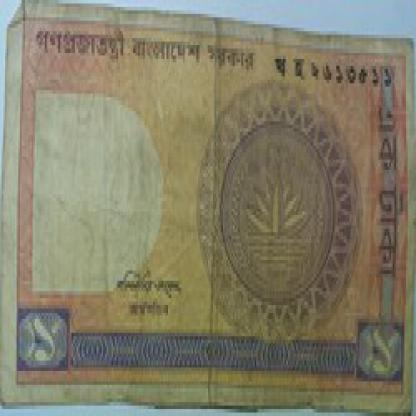One Taka: (376, 94, 406, 284), (18, 308, 68, 368), (358, 322, 402, 385)
